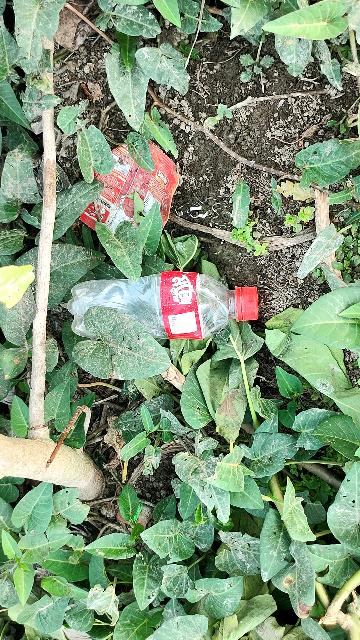bottle: (61, 271, 277, 344)
